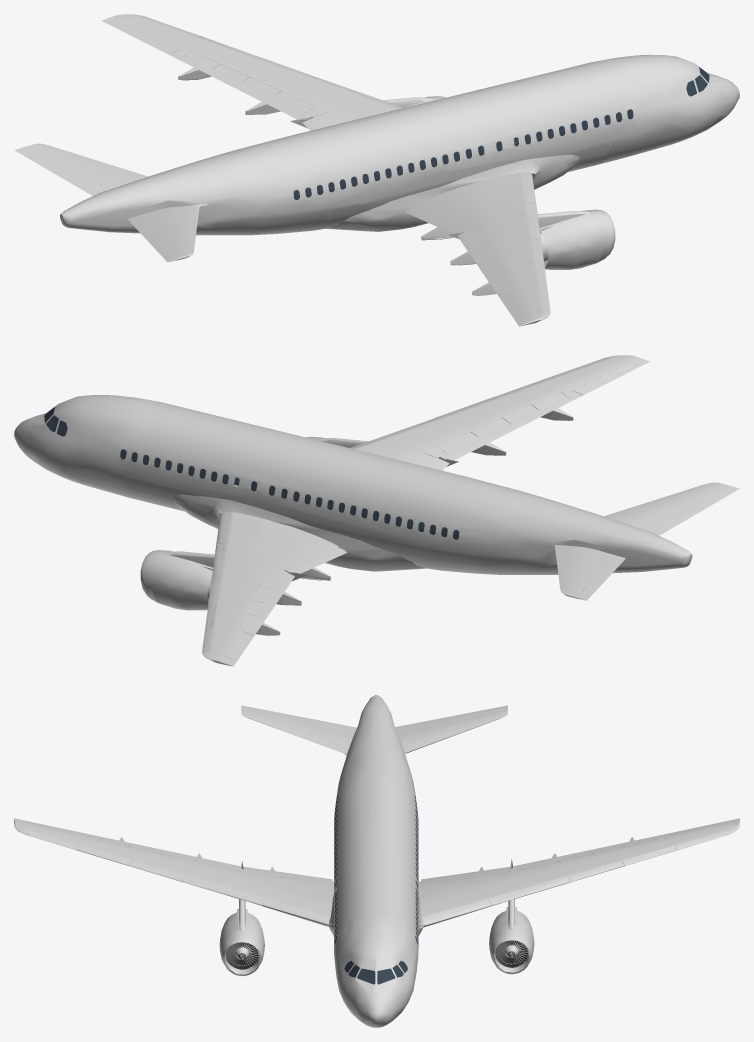
3 views of the same model, one above another, from view 1: azimuth 30°, elevation 25°; view 2: azimuth 150°, elevation 25°; view 3: azimuth 270°, elevation 25° (orthographic). The views are drawn at different scales.
Parts seen in each view (by area): view 1: body, glass; view 2: body, glass; view 3: body, glass, trim.
Boxes of the visible parts, left/top/right/bottom form: body: left=14, top=14, right=739, bottom=326; glass: left=293, top=67, right=709, bottom=199; body: left=14, top=355, right=739, bottom=666; glass: left=44, top=407, right=459, bottom=539; body: left=14, top=695, right=739, bottom=1027; glass: left=334, top=795, right=417, bottom=984; trim: left=226, top=940, right=527, bottom=969.
Size of the model in its own units: 2.06 by 0.3479 by 2.2.
